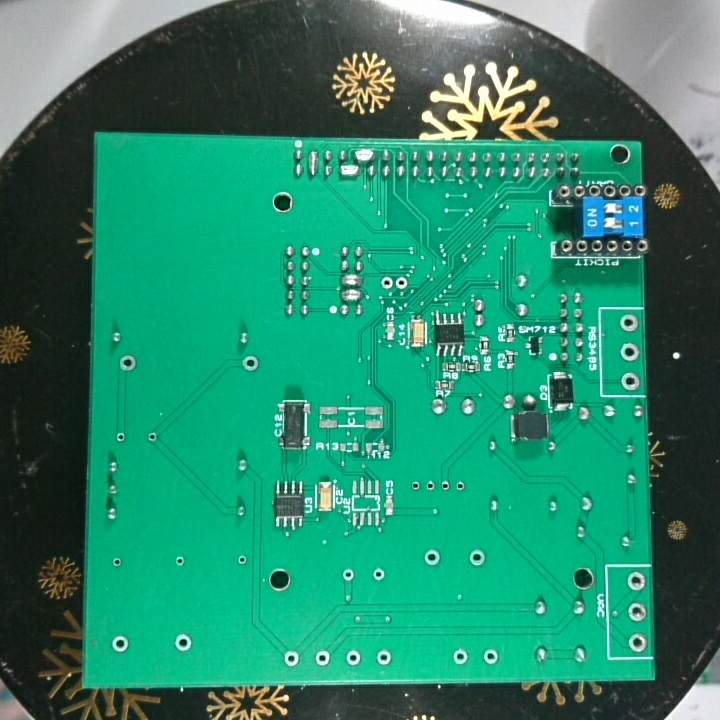F: (627, 631, 651, 655), (625, 569, 648, 594), (618, 370, 642, 393), (626, 600, 648, 625), (171, 632, 194, 655), (108, 632, 131, 655), (618, 339, 640, 363), (617, 312, 639, 335), (467, 546, 488, 570), (118, 352, 139, 375), (312, 648, 334, 668), (241, 353, 261, 375), (342, 648, 363, 668), (451, 646, 471, 666), (374, 648, 394, 668), (281, 649, 302, 668), (422, 547, 443, 566), (481, 646, 499, 667), (368, 565, 388, 583), (339, 565, 357, 583), (114, 427, 130, 446), (145, 428, 160, 448), (378, 275, 394, 292), (394, 275, 410, 291), (453, 478, 468, 495), (109, 555, 125, 570), (234, 553, 249, 569), (439, 476, 451, 496), (171, 554, 187, 568), (423, 478, 438, 492), (408, 477, 420, 494)
P: (337, 285, 368, 303), (351, 146, 377, 164), (305, 147, 319, 179), (336, 161, 362, 178), (338, 272, 366, 286)
